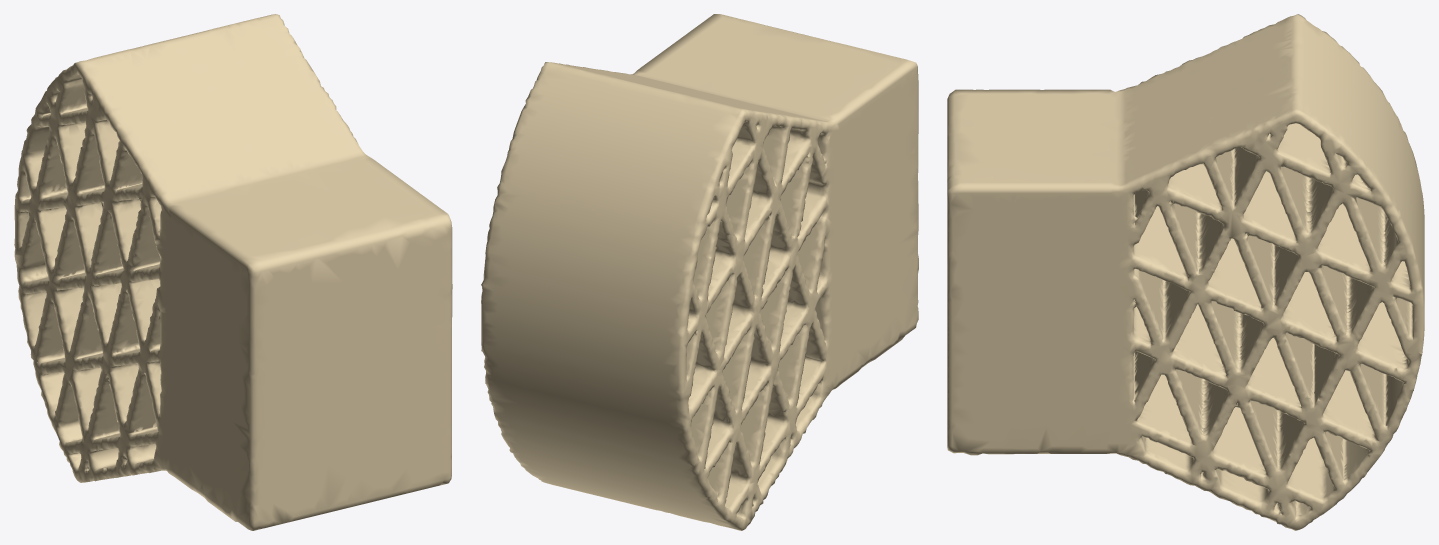
The model's file is ollie-paw-shape-055.glb.
The picture shows the model from 3 angles, left to right: view 1: azimuth 30°, elevation 25°; view 2: azimuth 150°, elevation 25°; view 3: azimuth 270°, elevation 25°; orthographic projection.
Visible parts, largest first — view 1: world; view 2: world; view 3: world.
Boxes of the visible parts, x1=… form: world: x1=14, y1=14, x2=452, y2=530; world: x1=481, y1=14, x2=918, y2=530; world: x1=947, y1=14, x2=1424, y2=530.
Bounding box in the file's own units: 20 × 39.86 × 41.
